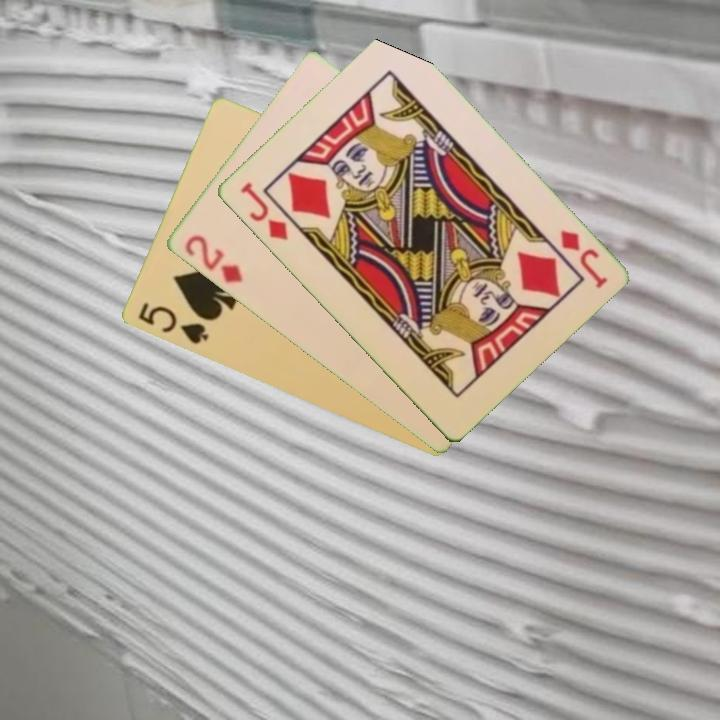2d: (180, 231, 245, 287)
5s: (134, 298, 211, 348)
Jd: (236, 178, 291, 244), (555, 226, 610, 292)
